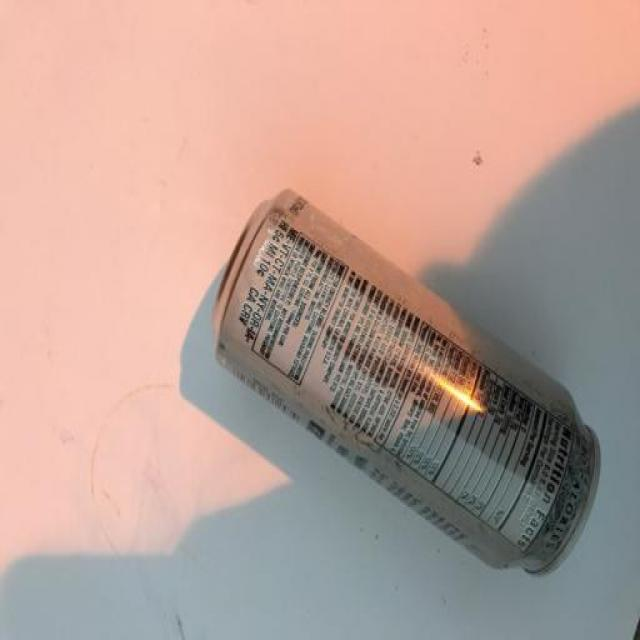can: (208, 184, 606, 581)
